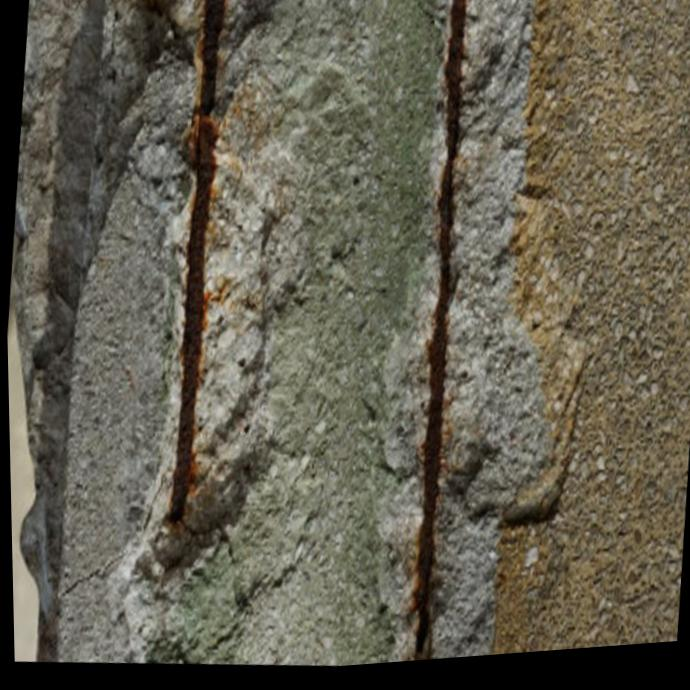damage: (10, 0, 568, 667)
